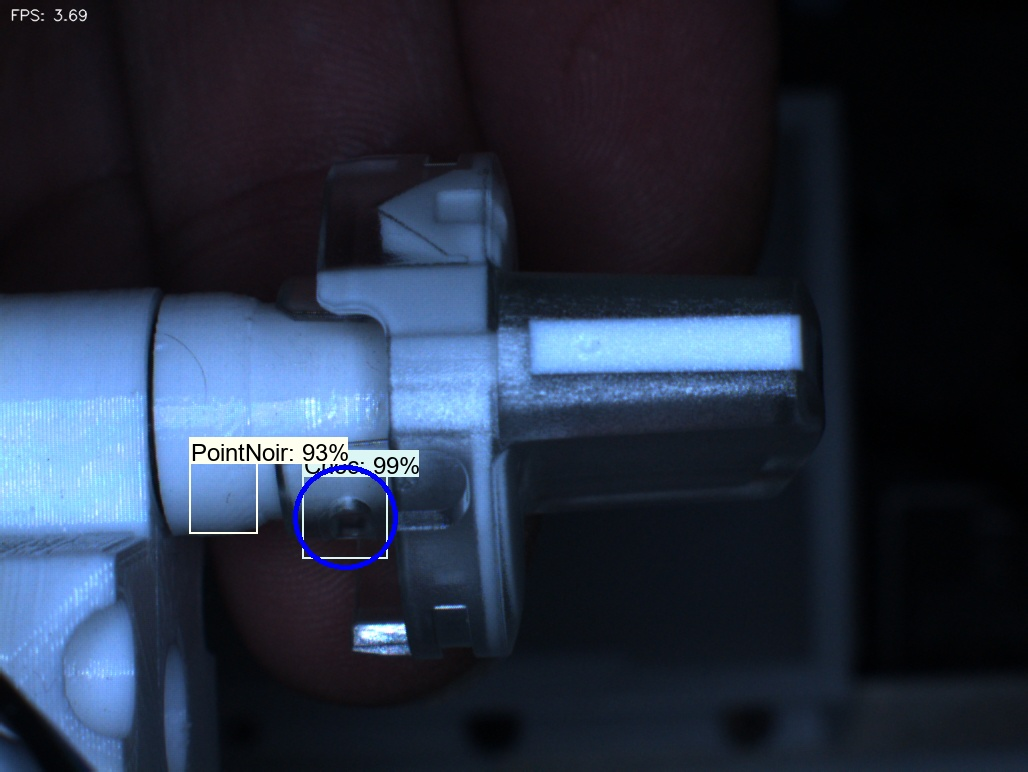DentOk: (356, 179, 409, 271)
